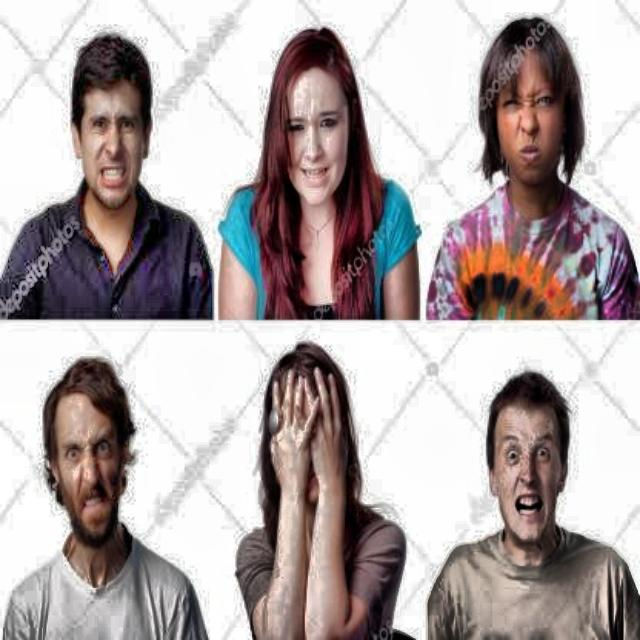angry: (473, 8, 596, 221), (34, 354, 149, 570), (256, 10, 380, 210), (63, 26, 164, 224), (258, 331, 362, 518), (482, 369, 582, 555)
